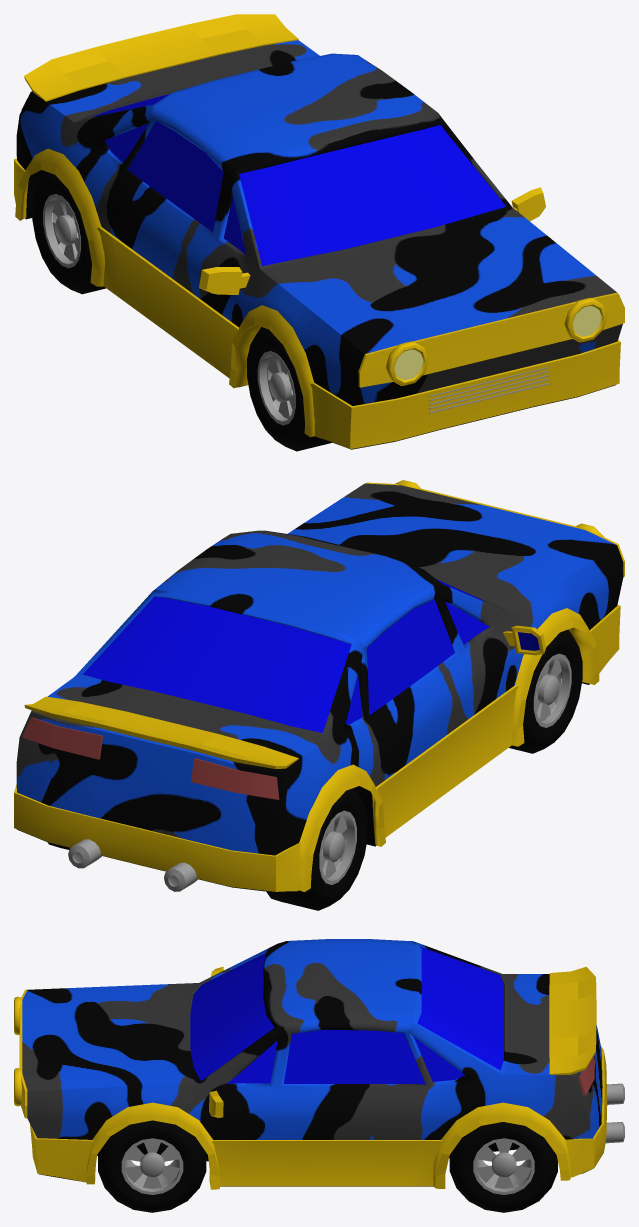
Rendered from Muscle Evolution2 Orange ArmyBlackSkyBlue Blue LightGrey.glb.
3 views of the same model, one above another, from view 1: azimuth 30°, elevation 25°; view 2: azimuth 150°, elevation 25°; view 3: azimuth 270°, elevation 25° (orthographic). The views are drawn at different scales.
Visible parts, largest first — view 1: evo2_body2_f1_dupl, evo2_frontGlass_f1_dupl, evo2_sill2_f1_dupl, evo2_spoiler2_f1_dupl, evo2_front_square2_f1_dupl, evo2_glasseBigR_f1_dupl, evo2_mudguardFR_f1_dupl, evo2_mudguardbR_f1_dupl, evo2_tire_rf1_f1_dupl, evo2_tire_rf_f1_dupl, evo2_rim_A_rf_f1_dupl, evo2_rim_A_rb_f1_dupl (+9 smaller); view 2: evo2_body2_f1_dupl, evo2_BackGlassGlass_f1_dupl, evo2_sill2_f1_dupl, evo2_spoiler2_f1_dupl, evo2_glasseBigR_f1_dupl, evo2_tire_rf_f1_dupl, evo2_mudguardbR_f1_dupl, evo2_mudguardFR_f1_dupl, evo2_tire_rf1_f1_dupl, evo2_rim_A_rf_f1_dupl, evo2_rim_A_rb_f1_dupl, evo2_redlightR2_f1_dupl (+5 smaller); view 3: evo2_body2_f1_dupl, evo2_sill2_f1_dupl, evo2_BackGlassGlass_f1_dupl, evo2_glasseBigL_f1_dupl, evo2_frontGlass_f1_dupl, evo2_tire_lf_f1_dupl, evo2_tire_lb_f1_dupl, evo2_spoiler2_f1_dupl, evo2_mudguardBL_f1_dupl, evo2_mudguardFL_f1_dupl, evo2_rim_A_lf_f1_dupl, evo2_rim_A_lb_f1_dupl (+4 smaller).
Boxes of the visible parts, x1,y1,x2,y2 form: evo2_body2_f1_dupl: (16, 40, 622, 405); evo2_frontGlass_f1_dupl: (239, 125, 505, 265); evo2_sill2_f1_dupl: (14, 158, 620, 449); evo2_spoiler2_f1_dupl: (24, 14, 298, 101); evo2_front_square2_f1_dupl: (358, 292, 624, 387); evo2_glasseBigR_f1_dupl: (128, 121, 223, 231); evo2_mudguardFR_f1_dupl: (229, 305, 314, 437); evo2_mudguardbR_f1_dupl: (15, 148, 104, 286); evo2_tire_rf1_f1_dupl: (247, 327, 331, 451); evo2_tire_rf_f1_dupl: (32, 171, 105, 294); evo2_rim_A_rf_f1_dupl: (257, 351, 295, 425); evo2_rim_A_rb_f1_dupl: (43, 194, 80, 268); evo2_body2_f1_dupl: (16, 483, 623, 855); evo2_BackGlassGlass_f1_dupl: (83, 596, 351, 732); evo2_sill2_f1_dupl: (14, 605, 620, 891); evo2_spoiler2_f1_dupl: (24, 696, 298, 768); evo2_glasseBigR_f1_dupl: (367, 599, 454, 715); evo2_tire_rf_f1_dupl: (266, 787, 367, 910); evo2_mudguardbR_f1_dupl: (299, 764, 385, 891); evo2_mudguardFR_f1_dupl: (512, 608, 599, 746); evo2_tire_rf1_f1_dupl: (509, 629, 582, 753); evo2_rim_A_rf_f1_dupl: (533, 653, 571, 727); evo2_rim_A_rb_f1_dupl: (319, 810, 356, 884); evo2_redlightR2_f1_dupl: (191, 758, 279, 799); evo2_body2_f1_dupl: (22, 939, 602, 1159); evo2_sill2_f1_dupl: (30, 1045, 607, 1186); evo2_BackGlassGlass_f1_dupl: (417, 946, 503, 1070); evo2_glasseBigL_f1_dupl: (283, 1029, 425, 1084); evo2_frontGlass_f1_dupl: (190, 953, 274, 1080); evo2_tire_lf_f1_dupl: (98, 1120, 206, 1212); evo2_tire_lb_f1_dupl: (449, 1122, 557, 1212); evo2_spoiler2_f1_dupl: (549, 966, 596, 1074); evo2_mudguardBL_f1_dupl: (433, 1102, 570, 1188); evo2_mudguardFL_f1_dupl: (86, 1102, 220, 1189); evo2_rim_A_lf_f1_dupl: (121, 1138, 183, 1194); evo2_rim_A_lb_f1_dupl: (473, 1138, 534, 1194).
Bounding box in the file's own units: 177 × 112 × 331.
7 materials, 1 textured.
